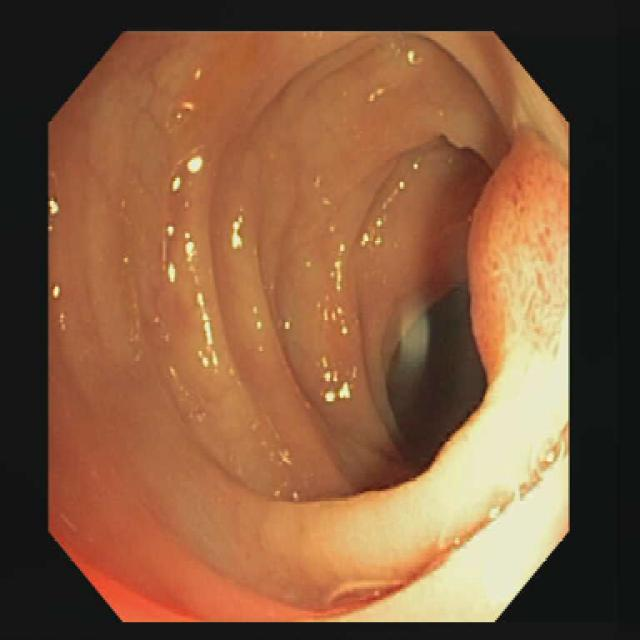tumor: (468, 131, 565, 387)
